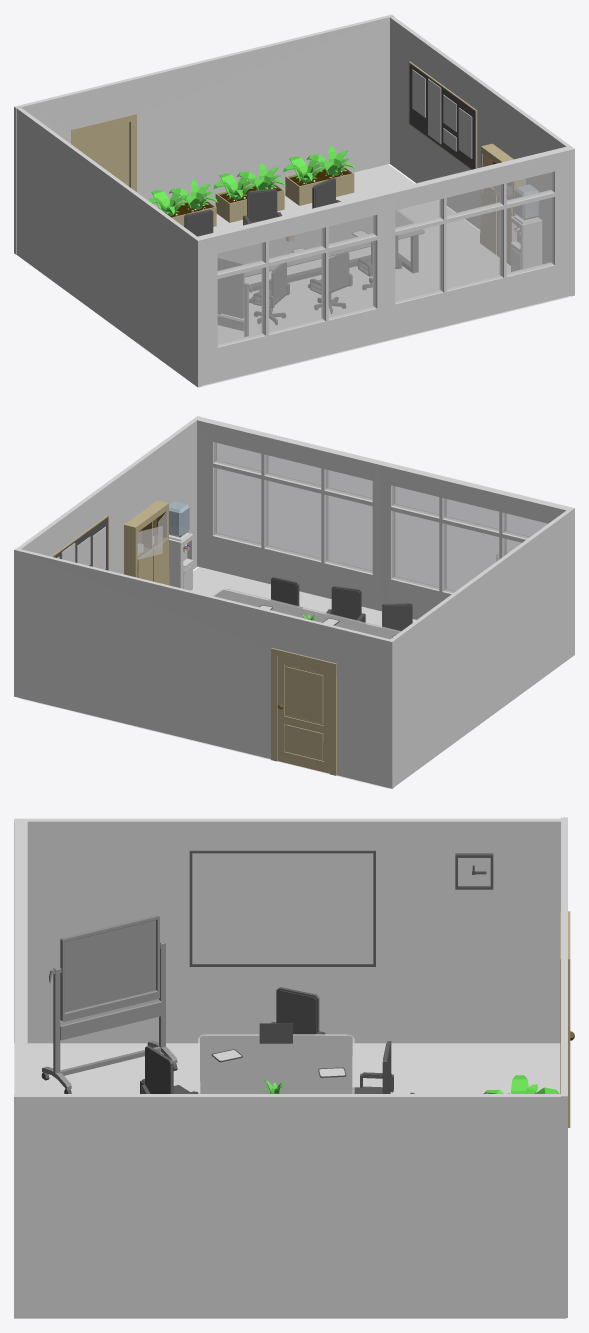
The model's file is ROOM.fbx.
The picture shows the model from 3 angles, top to bottom: view 1: azimuth 30°, elevation 25°; view 2: azimuth 150°, elevation 25°; view 3: azimuth 270°, elevation 25°; orthographic projection. The views are drawn at different scales.
Parts seen in each view (by area): view 1: pCube298, pCube284, pCube290, pCube285, pCube291, pCube286, pCube289, Floor, pCube259, pCube216, pCube126 (×3), pasted__pCube4 (+14 smaller); view 2: pCube298, pCube284, pCube290, pCube291, pCube285, pCube289, pCube286, pCube216, pCube271, Floor, pasted__pCube4, pCube259 (+8 smaller); view 3: pCube289, pCube284, Sign__projector, Floor, pasted__pCube4, pCube141, pCube259, pCube140, pCube298, pCube290, pCube285, pCube339 (+5 smaller).
Boxes of the visible parts, x1,y1,x2,y2 form: pCube298: (14,14,394,254); pCube284: (17,107,201,387); pCube290: (376,146,571,342); pCube285: (196,190,394,385); pCube291: (395,172,553,303); pCube286: (217,215,375,346); pCube289: (390,16,574,296); Floor: (201,164,568,386); pCube259: (218,211,424,314); pCube216: (71,114,136,191); pCube126 (×3): (158,164,354,226); pasted__pCube4: (218,210,424,276); pCube298: (14,548,394,788); pCube284: (390,507,574,786); pCube290: (196,416,393,610); pCube291: (214,442,372,573); pCube285: (373,460,571,619); pCube289: (17,416,199,574); pCube286: (392,486,547,592); pCube216: (271,648,336,775); pCube271: (124,500,169,585); Floor: (19,567,416,788); pasted__pCube4: (212,588,400,638); pCube259: (214,590,399,638); pCube289: (14,1094,566,1318); pCube284: (14,818,560,1043); Sign__projector: (189,850,375,966); Floor: (27,1043,560,1093); pasted__pCube4: (198,1034,354,1093); pCube141: (60,915,159,1022); pCube259: (200,1036,352,1093); pCube140: (42,941,177,1090); pCube298: (561,817,567,1317); pCube290: (14,951,27,1094); pCube285: (14,820,27,951); pCube339: (276,987,319,1035).
Bounding box in the file's own units: 40.14 × 15.07 × 34.13.
